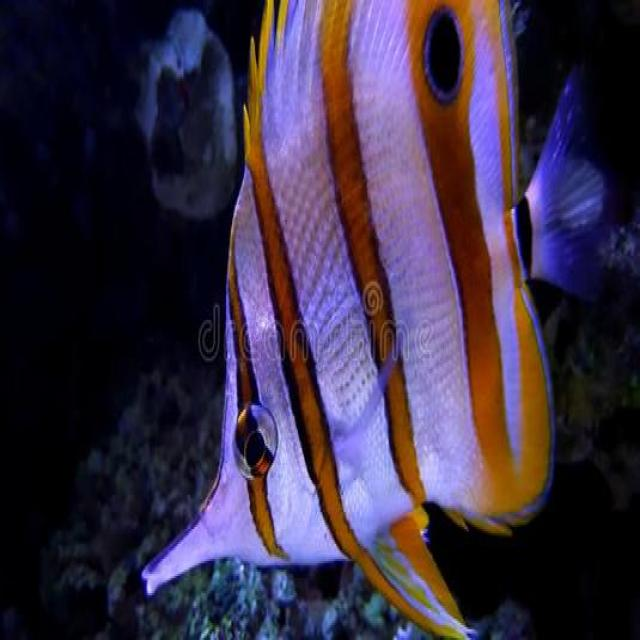ButterflyFish: (141, 0, 609, 640)
